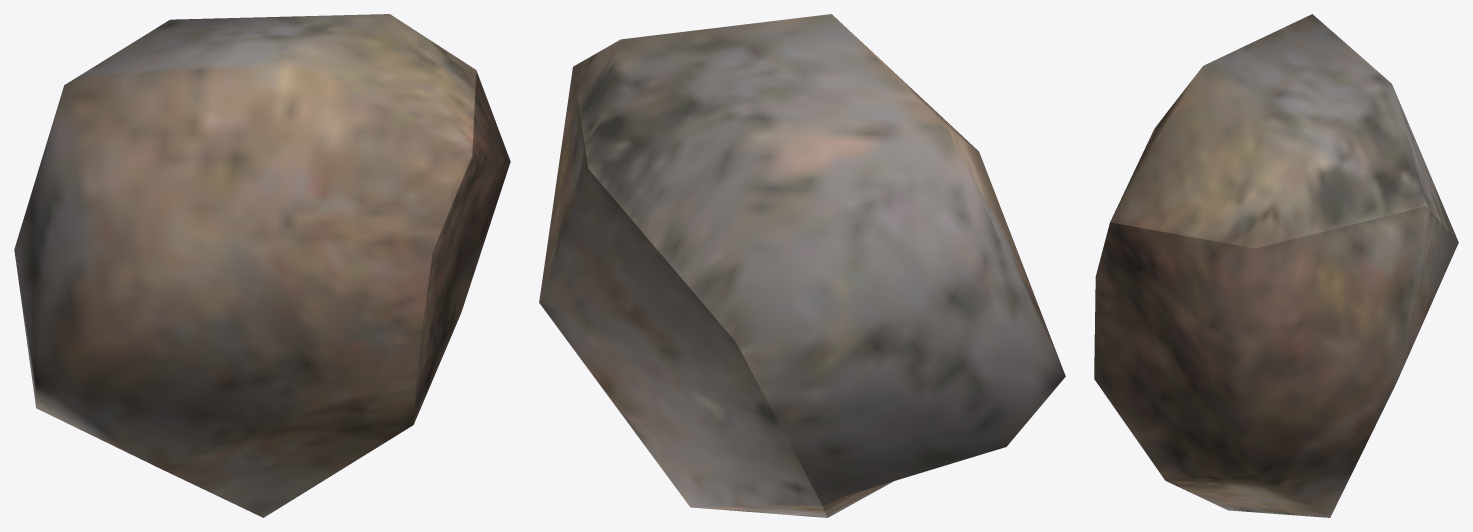
The model's file is SM_Stone11.FBX.
The picture shows the model from 3 angles, left to right: view 1: azimuth 30°, elevation 25°; view 2: azimuth 150°, elevation 25°; view 3: azimuth 270°, elevation 25°; orthographic projection. The views are drawn at different scales.
Parts seen in each view (by area): view 1: SM_Stone11; view 2: SM_Stone11; view 3: SM_Stone11.
Boxes of the visible parts, <box> form: SM_Stone11: <box>14,14,510,517</box>; SM_Stone11: <box>539,14,1065,517</box>; SM_Stone11: <box>1094,14,1458,517</box>.
Bounding box in the file's own units: 68.75 × 47.56 × 64.59.
